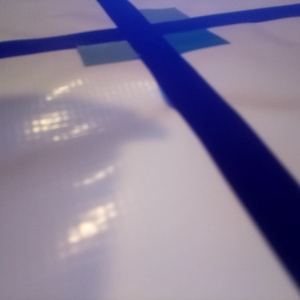bottom_left: (77, 32, 162, 66)
bottom_right: (136, 25, 228, 54)
top_right: (117, 8, 189, 32)
